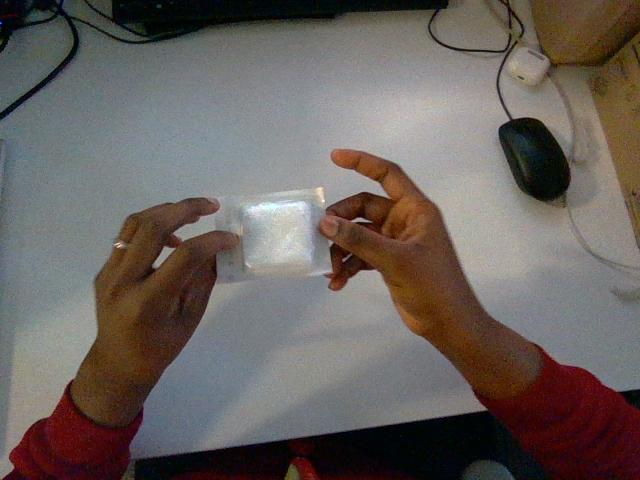gauze: (214, 188, 330, 282)
